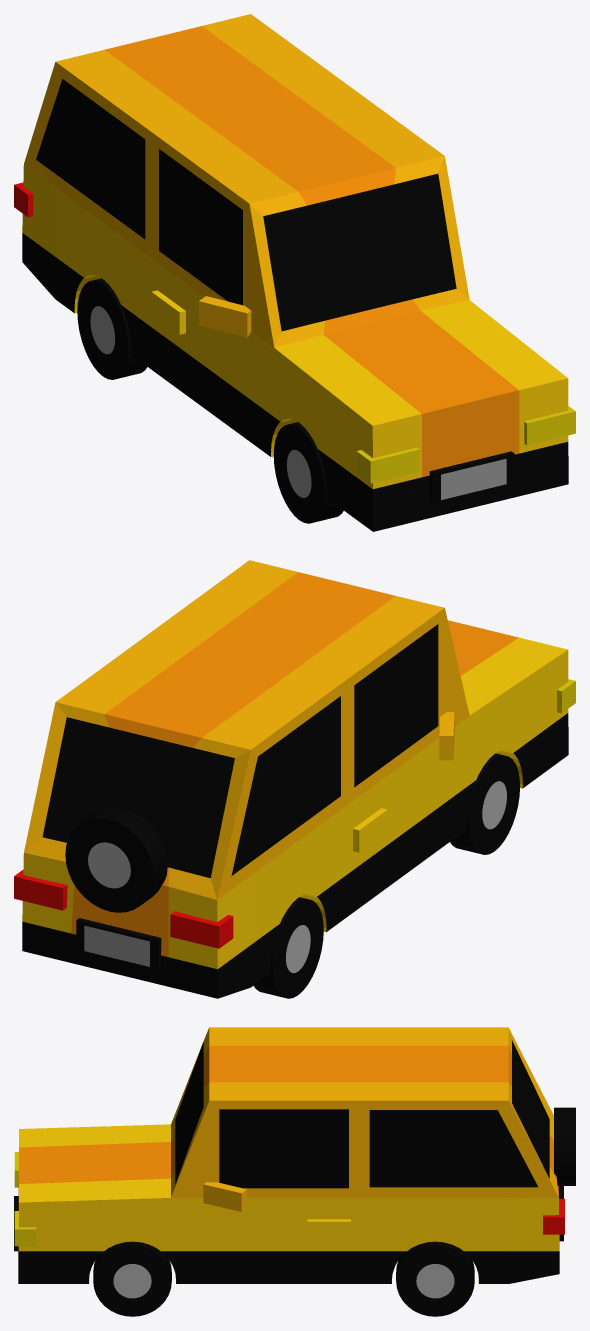
File: Mobil_Satu_Kuning.fbx
3 renders of one model, top to bottom at view 1: azimuth 30°, elevation 25°; view 2: azimuth 150°, elevation 25°; view 3: azimuth 270°, elevation 25°, orthographic. The views are drawn at different scales.
Visible parts, largest first — view 1: Mobil4; view 2: Mobil4; view 3: Mobil4.
Part boxes in pixels (x1,y1,x2,y2): Mobil4: (14, 14, 575, 531); Mobil4: (14, 560, 575, 998); Mobil4: (14, 1027, 575, 1316).
Size of the model in its own units: 519 by 546 by 1287.
